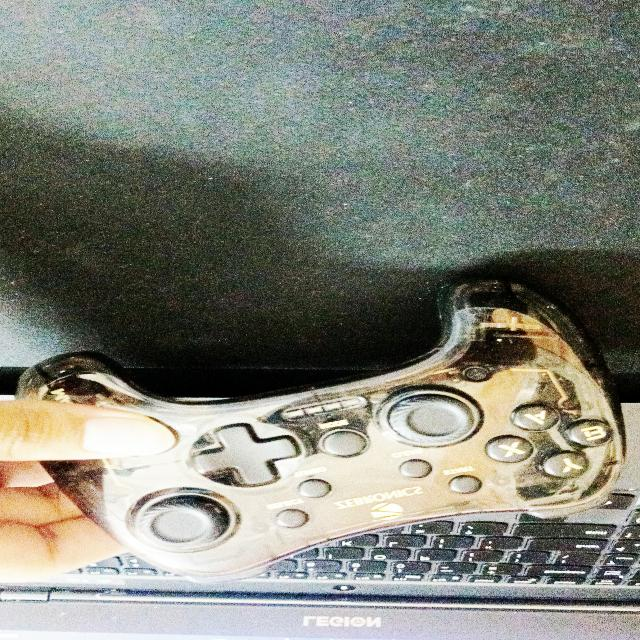gamepad: (13, 276, 627, 584)
